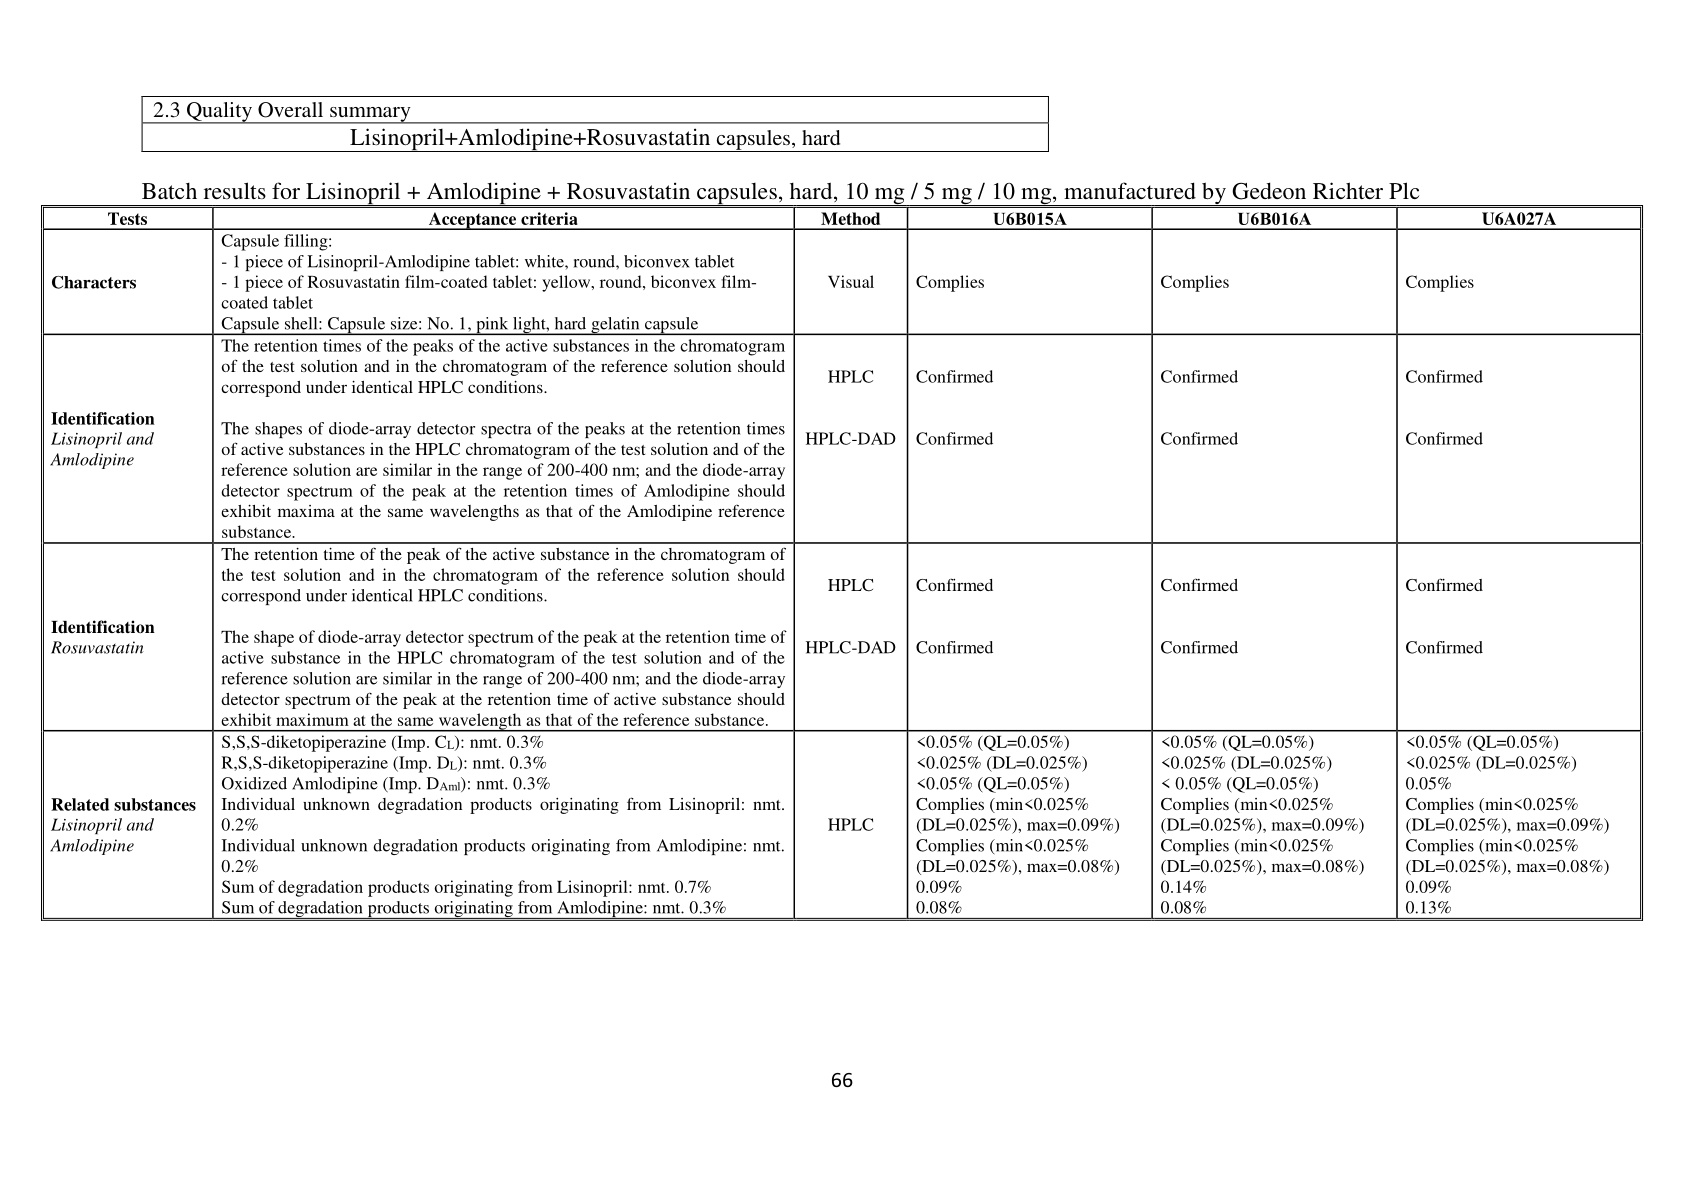full_lined: (41, 205, 1643, 922), (140, 95, 1050, 153)
